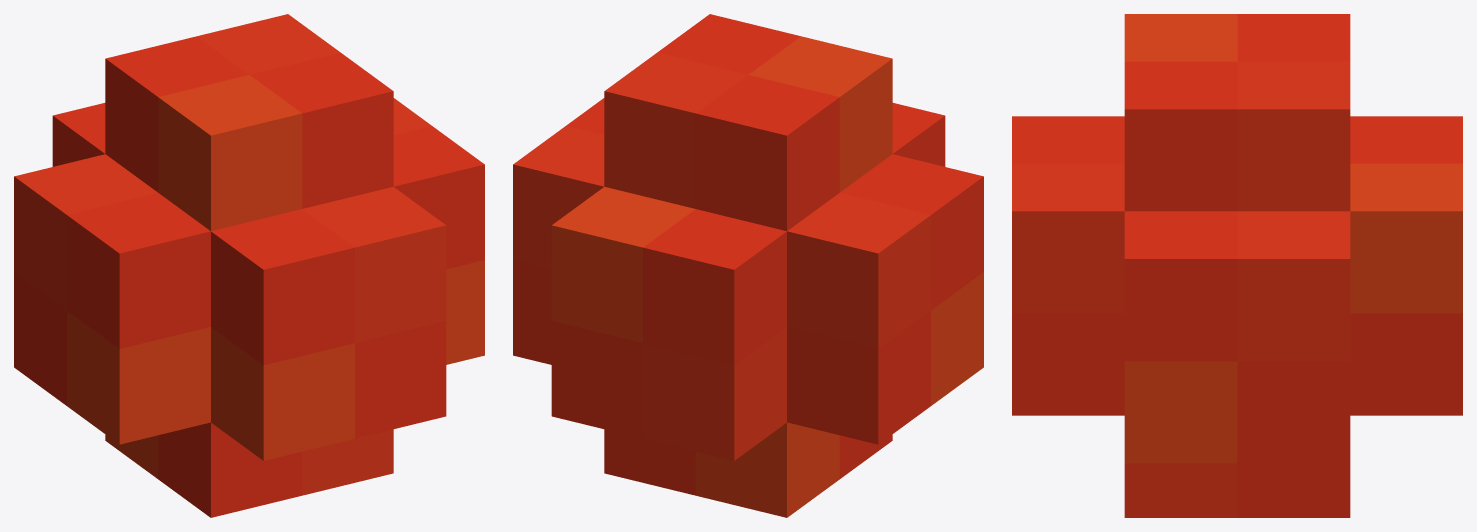
Rendered from Fireball.obj.
3 views of the same model, side by side, from view 1: azimuth 30°, elevation 25°; view 2: azimuth 150°, elevation 25°; view 3: azimuth 270°, elevation 25° (orthographic). The views are drawn at different scales.
Bounding box in the file's own units: 0.4 × 0.4 × 0.4.
Materials: 1 (1 with a texture image).
